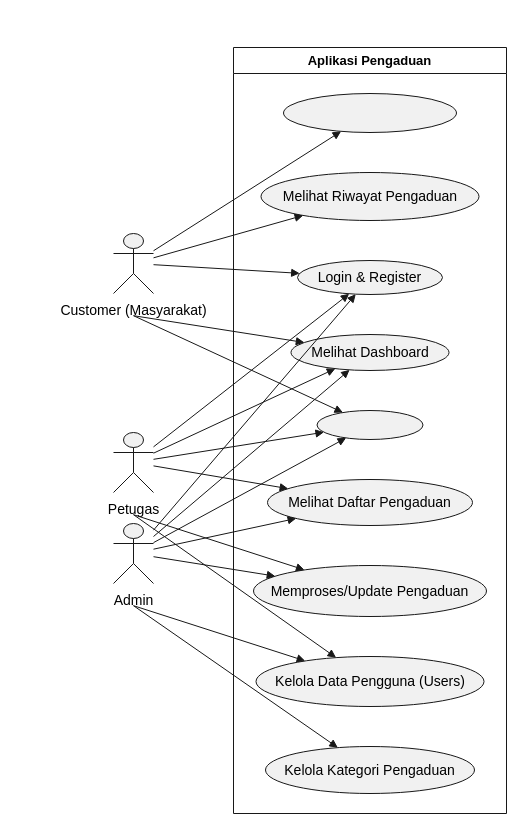
This 524x831 diagram has some shape labels left out. The shapes that lost their labels are listed below. From the top down, each one's centre as x and y in pixels, then its label:
At (369,112): "Membuat Pengaduan".
At (369,425): "Edit Profil".
